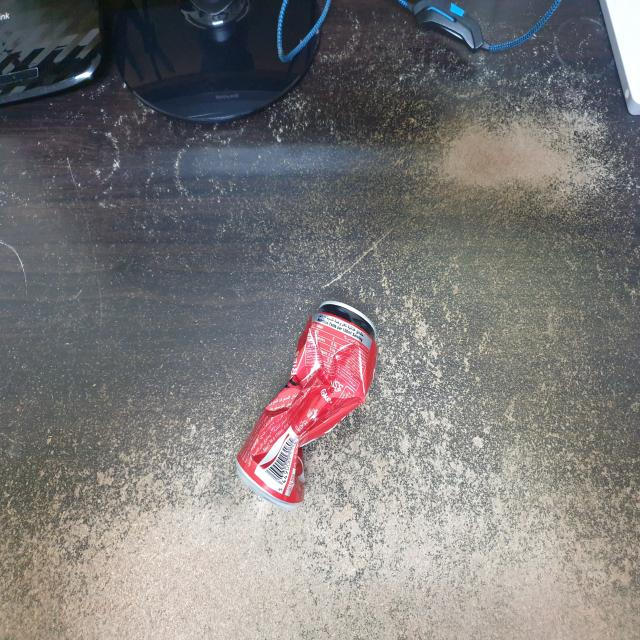non-organic waste: (231, 294, 382, 519)
